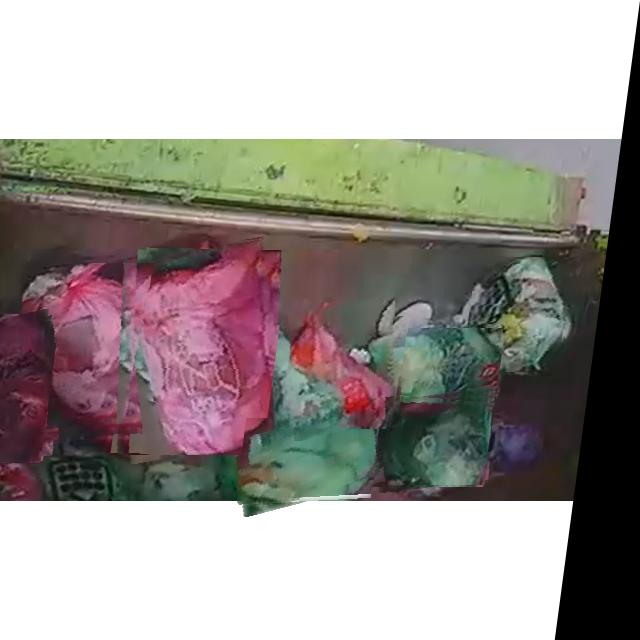general_trashbag: (252, 418, 393, 503), (478, 258, 576, 373), (384, 329, 511, 402), (393, 401, 502, 484)
other_trashbag: (133, 239, 282, 455), (30, 263, 145, 427), (300, 311, 408, 429), (0, 317, 62, 463)
